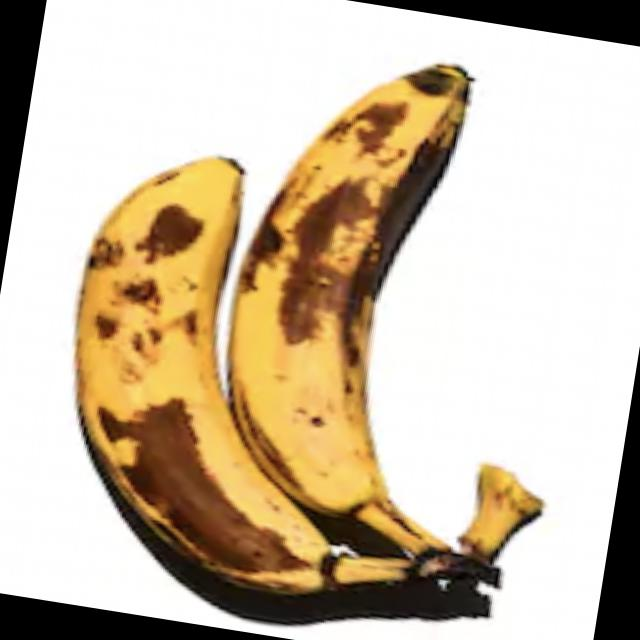rotten-banana: (37, 91, 426, 640), (204, 33, 536, 576)
